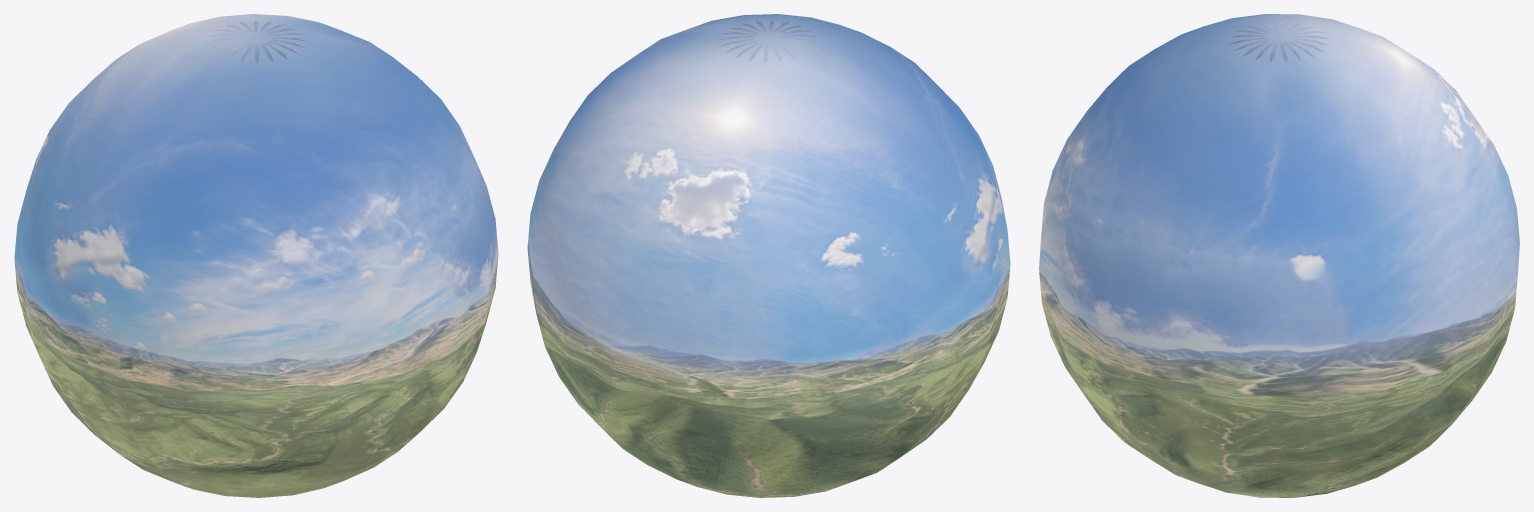
3 views of the same model, side by side, from view 1: azimuth 30°, elevation 25°; view 2: azimuth 150°, elevation 25°; view 3: azimuth 270°, elevation 25° (orthographic).
Parts seen in each view (by area): view 1: dome_2; view 2: dome_2; view 3: dome_2.
Boxes of the visible parts, x1=… form: dome_2: x1=14, y1=14, x2=498, y2=497; dome_2: x1=527, y1=14, x2=1010, y2=497; dome_2: x1=1039, y1=14, x2=1519, y2=497.
Size of what is drawn, in the model's own units: 139 by 140 by 139.
